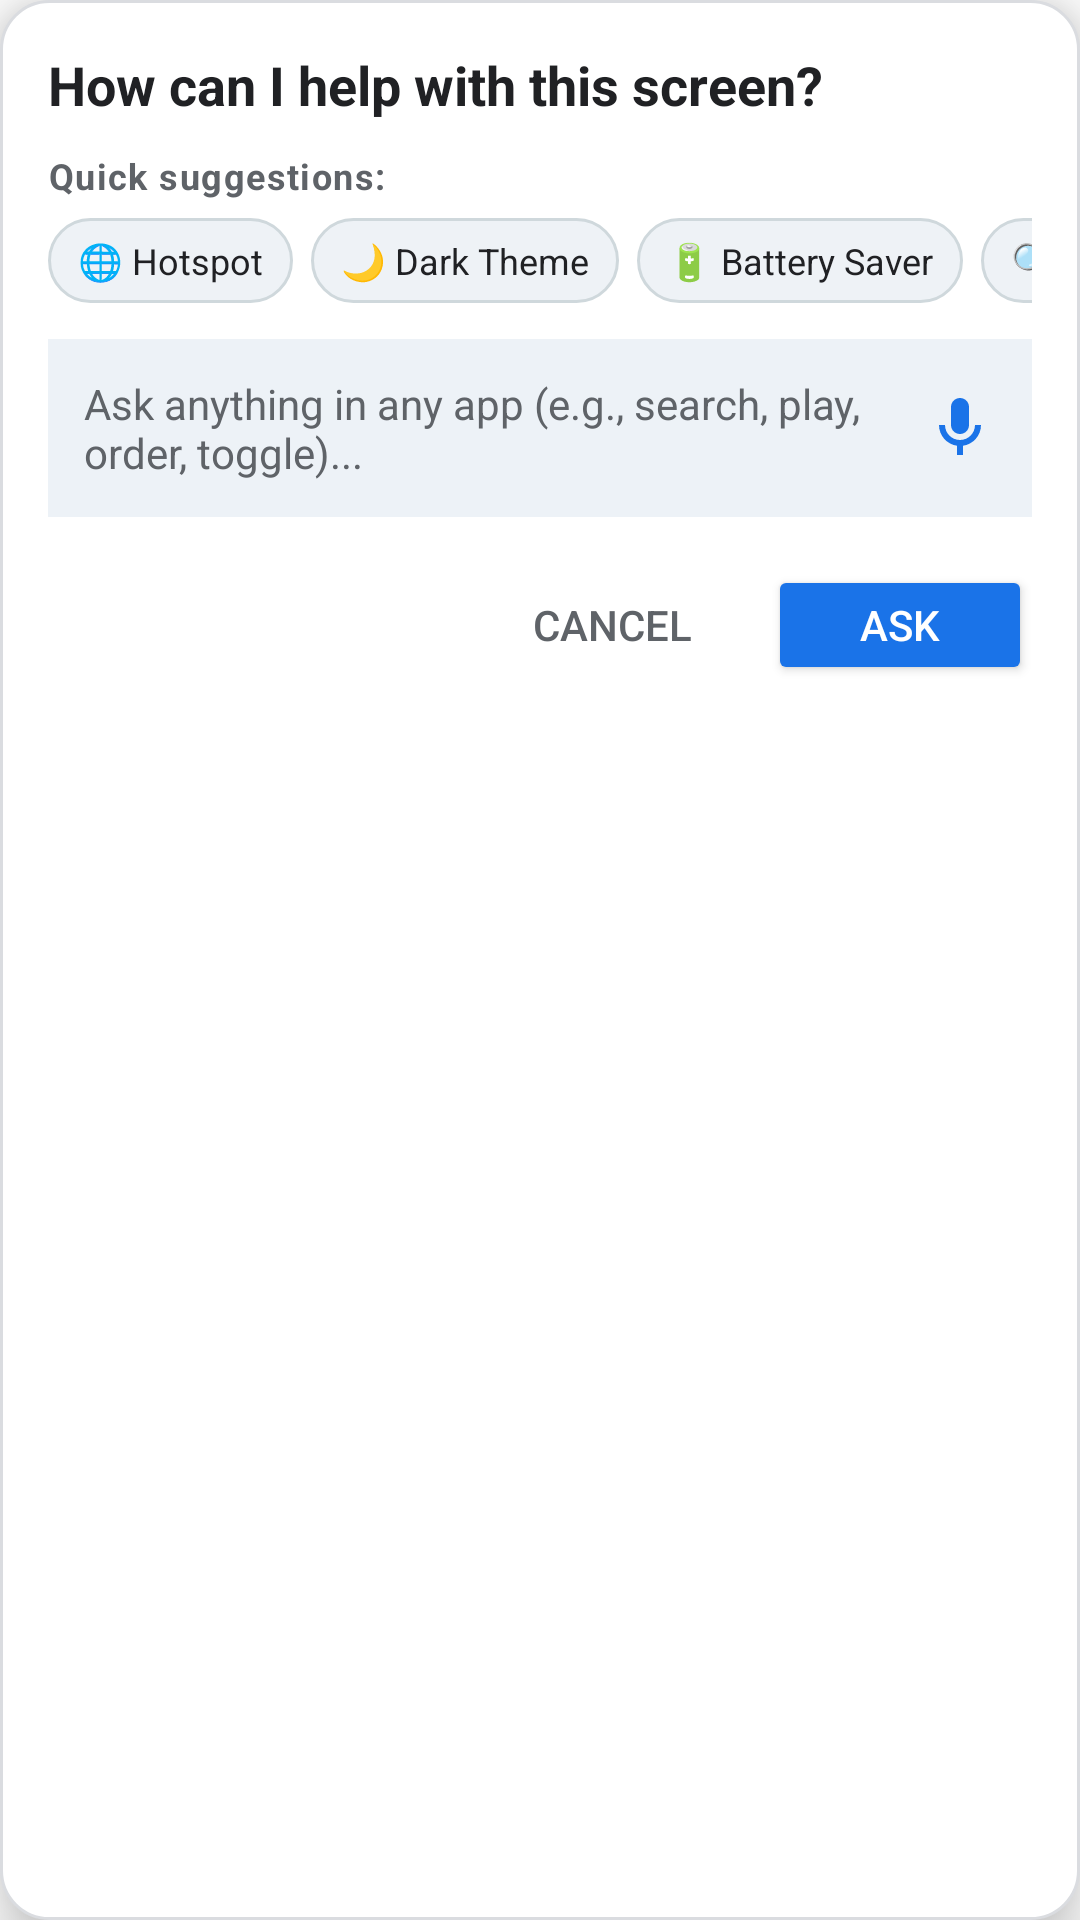

Point at icon controls on the screen. Image size 1080 × 1920, points as point (x, y).
Voice Command: point (960, 426)
